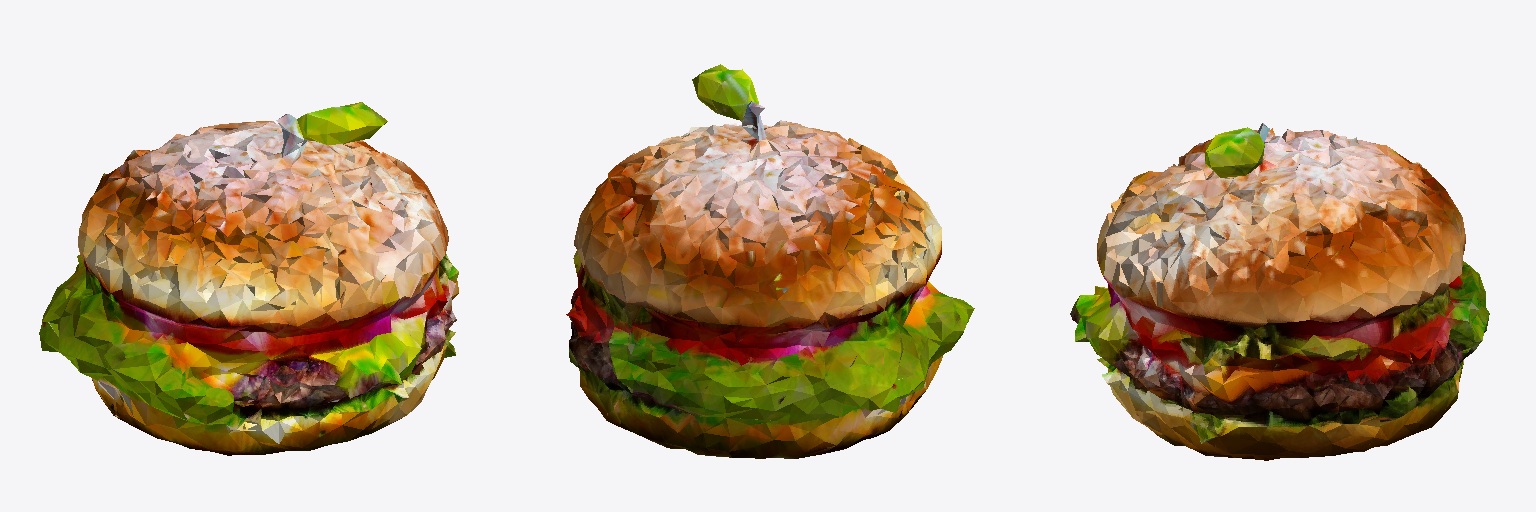
3 views of the same model, side by side, from view 1: azimuth 30°, elevation 25°; view 2: azimuth 150°, elevation 25°; view 3: azimuth 270°, elevation 25° (orthographic).
Parts seen in each view (by area): view 1: model; view 2: model; view 3: model.
Part boxes in pixels (bbox=[...]): model: bbox=[39, 102, 458, 455]; model: bbox=[566, 64, 974, 458]; model: bbox=[1070, 123, 1489, 460].
Bounding box in the file's own units: 1 × 0.8147 × 1.03.
1 materials, 1 textured.